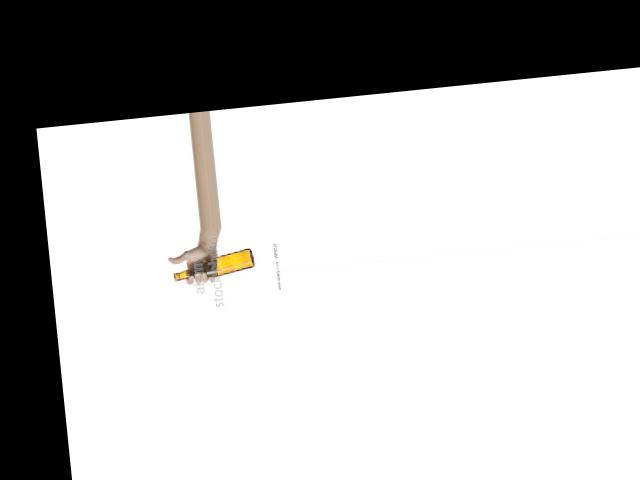beer: (172, 247, 255, 281)
